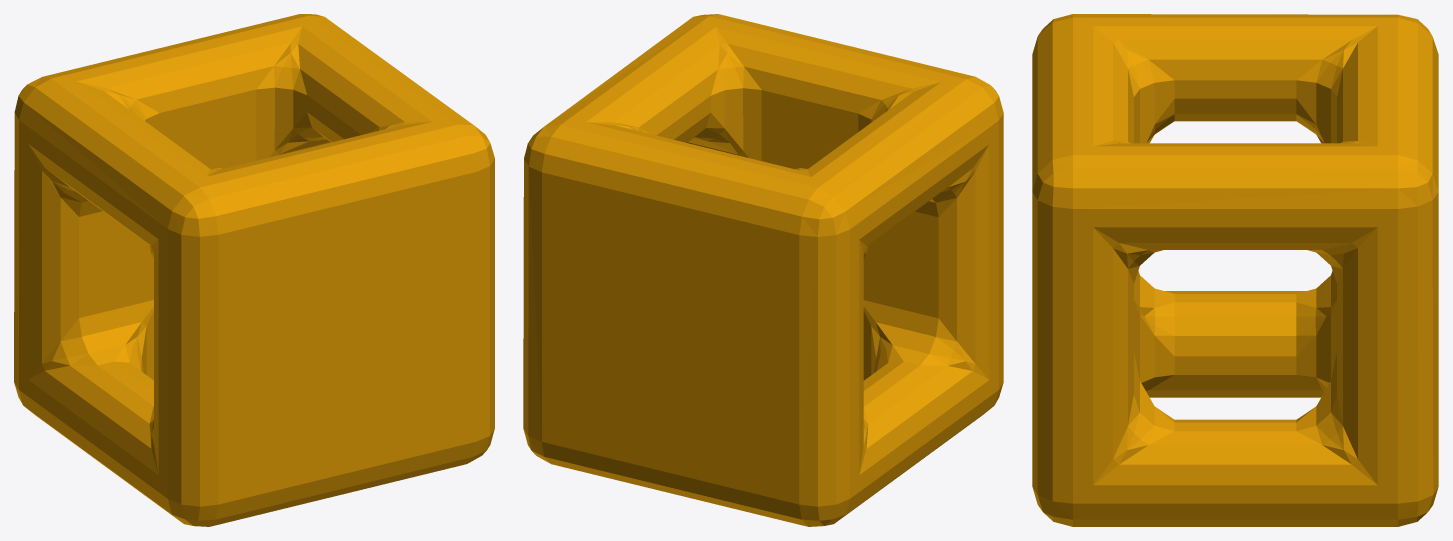
3 renders of one model, left to right at view 1: azimuth 30°, elevation 25°; view 2: azimuth 150°, elevation 25°; view 3: azimuth 270°, elevation 25°, orthographic. The views are drawn at different scales.
Parts seen in each view (by area): view 1: Cube; view 2: Cube; view 3: Cube.
Part boxes in pixels (<box>): Cube: <box>14,14,494,526</box>; Cube: <box>523,14,1003,526</box>; Cube: <box>1032,14,1438,526</box>.
Size of what is drawn, in the model's own units: 10 by 10 by 10.
